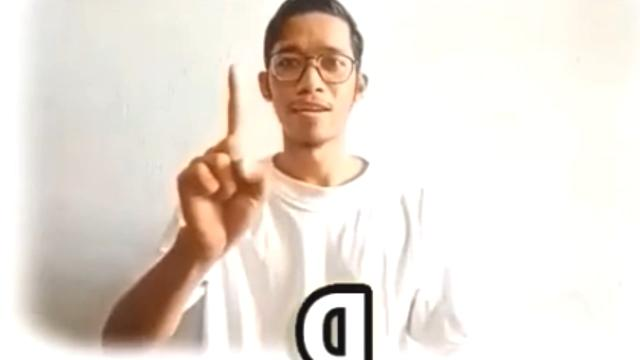D: (175, 60, 268, 260)
